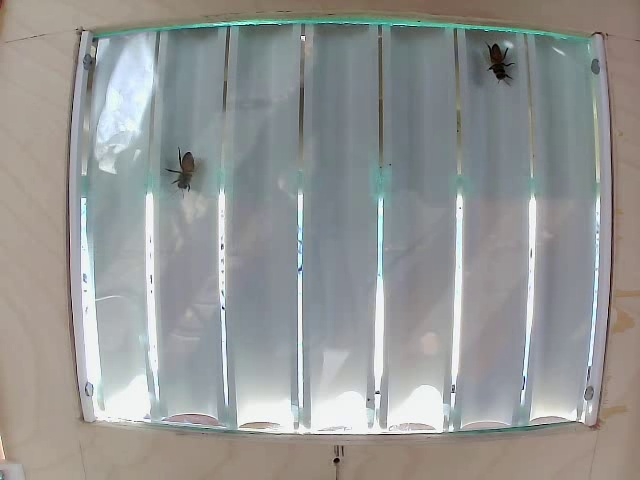bee: (160, 152, 206, 201), (483, 44, 512, 94)
